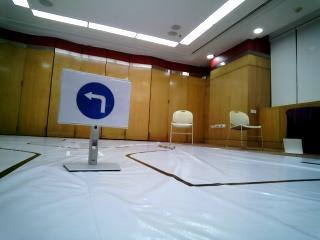left: (62, 68, 125, 130)
